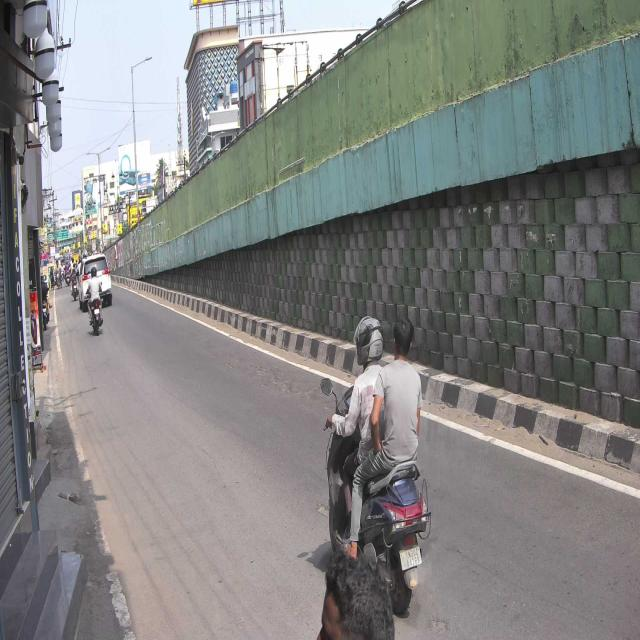double_rider: (323, 310, 429, 610)
